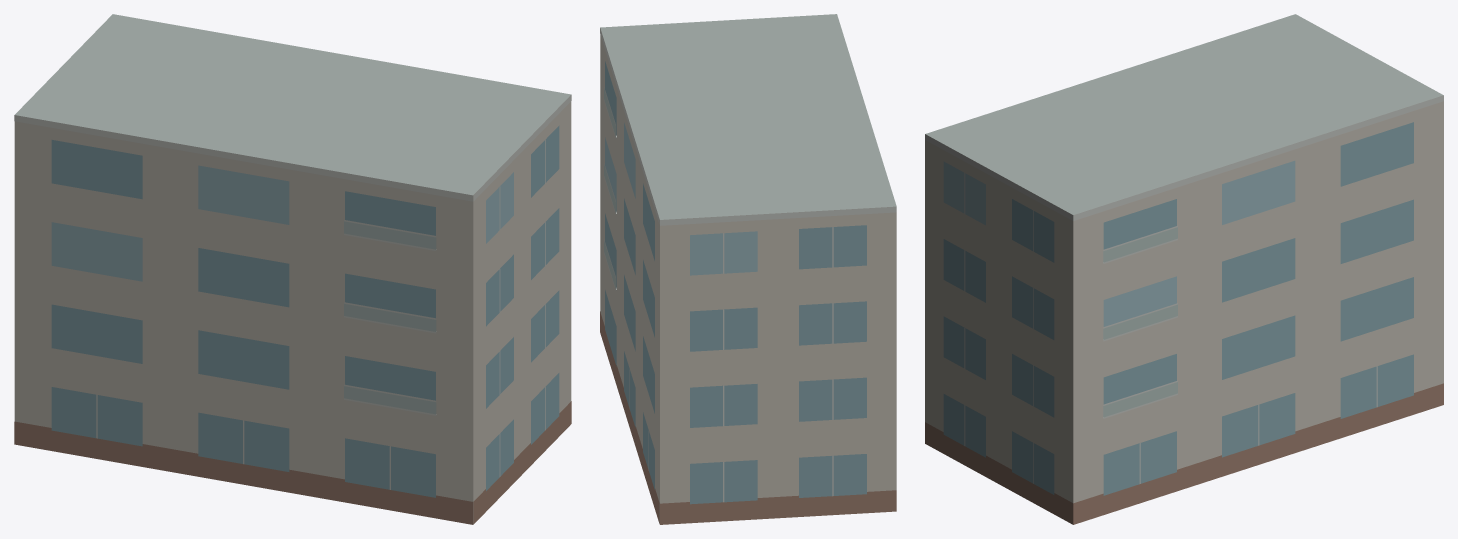
File: survey-upis-33016820.glb
3 renders of one model, left to right at view 1: azimuth 30°, elevation 25°; view 2: azimuth 150°, elevation 25°; view 3: azimuth 270°, elevation 25°, orthographic. The views are drawn at different scales.
Parts seen in each view (by area): view 1: survey-upis-33016820.tmp; view 2: survey-upis-33016820.tmp; view 3: survey-upis-33016820.tmp.
Part boxes in pixels (bbox=[...]): survey-upis-33016820.tmp: bbox=[14, 14, 571, 524]; survey-upis-33016820.tmp: bbox=[600, 14, 896, 524]; survey-upis-33016820.tmp: bbox=[925, 14, 1443, 524].
Bounding box in the file's own units: 17.7 × 12.7 × 19.29.
